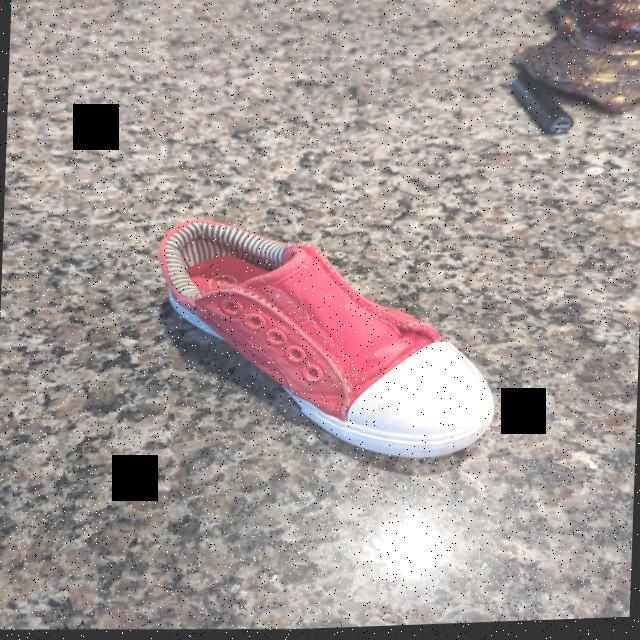shoes: (147, 205, 503, 476)
